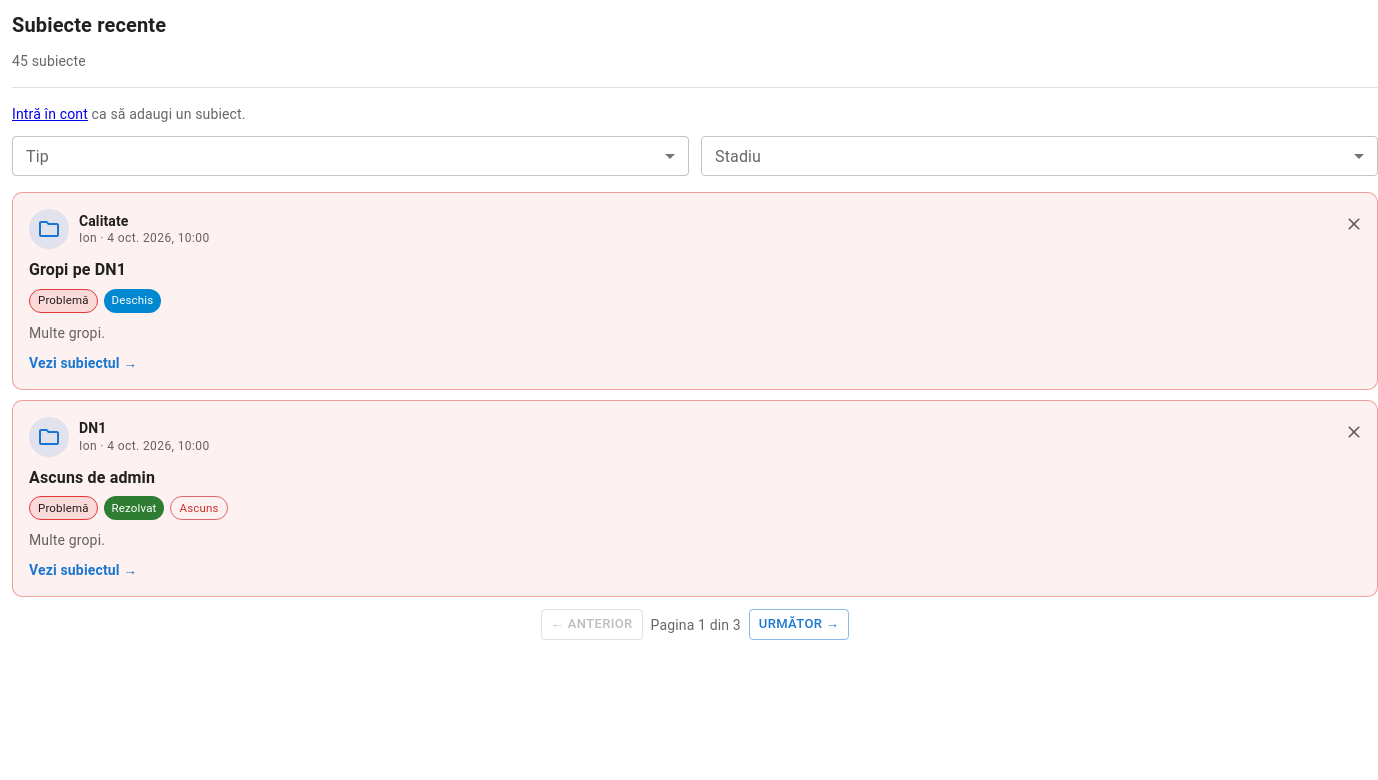
Scenario: ✕ strânge cardul la o bandă (categorie + titlu), ține minte în browser și îl redeschide
Later steps or results of the test are not shown.
Expected: the text "Gropi pe DN1" is shown, [29,260,126,279]
Step 1. Click the button named "Strânge subiectul: Gropi pe DN1" → (1354, 224), box [1339,209,1369,239]
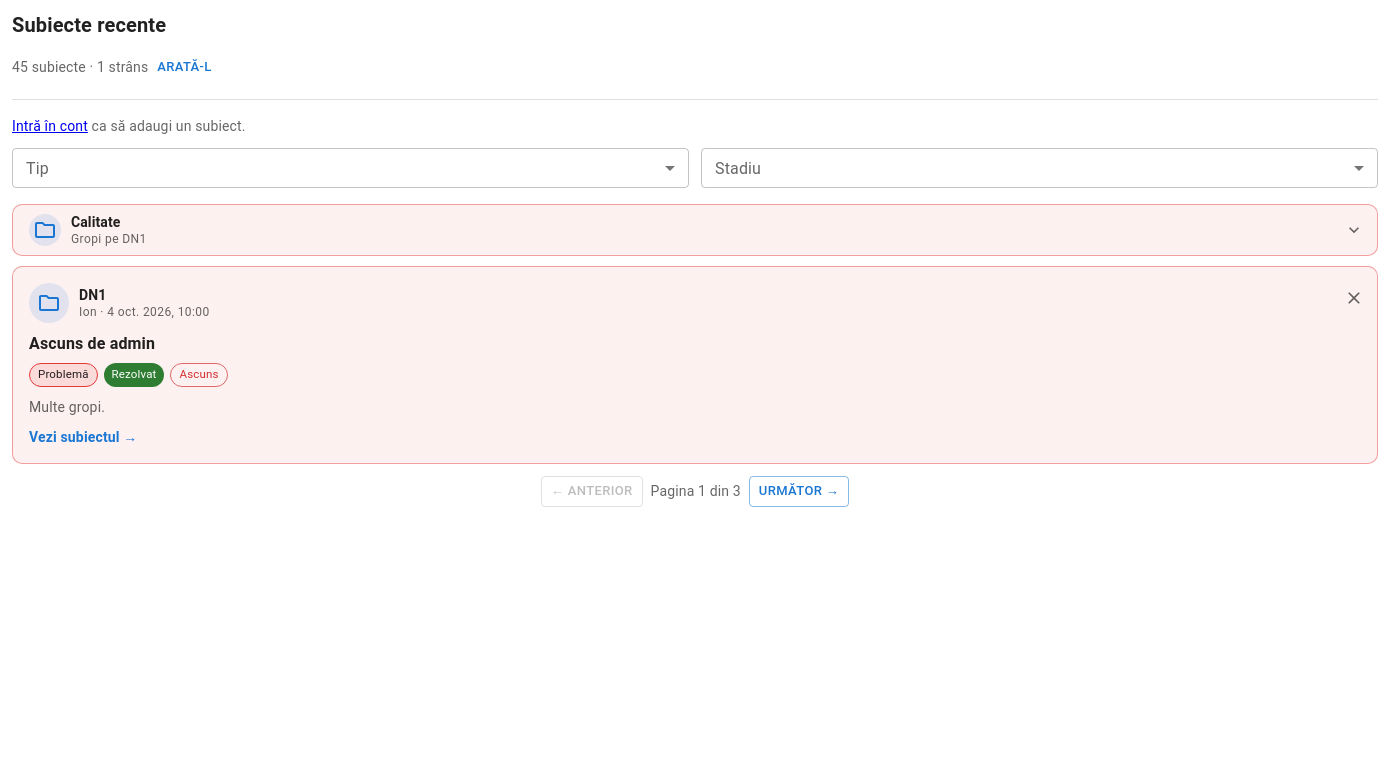
Now the text "Gropi pe DN1" is shown, box [71,232,147,246]
